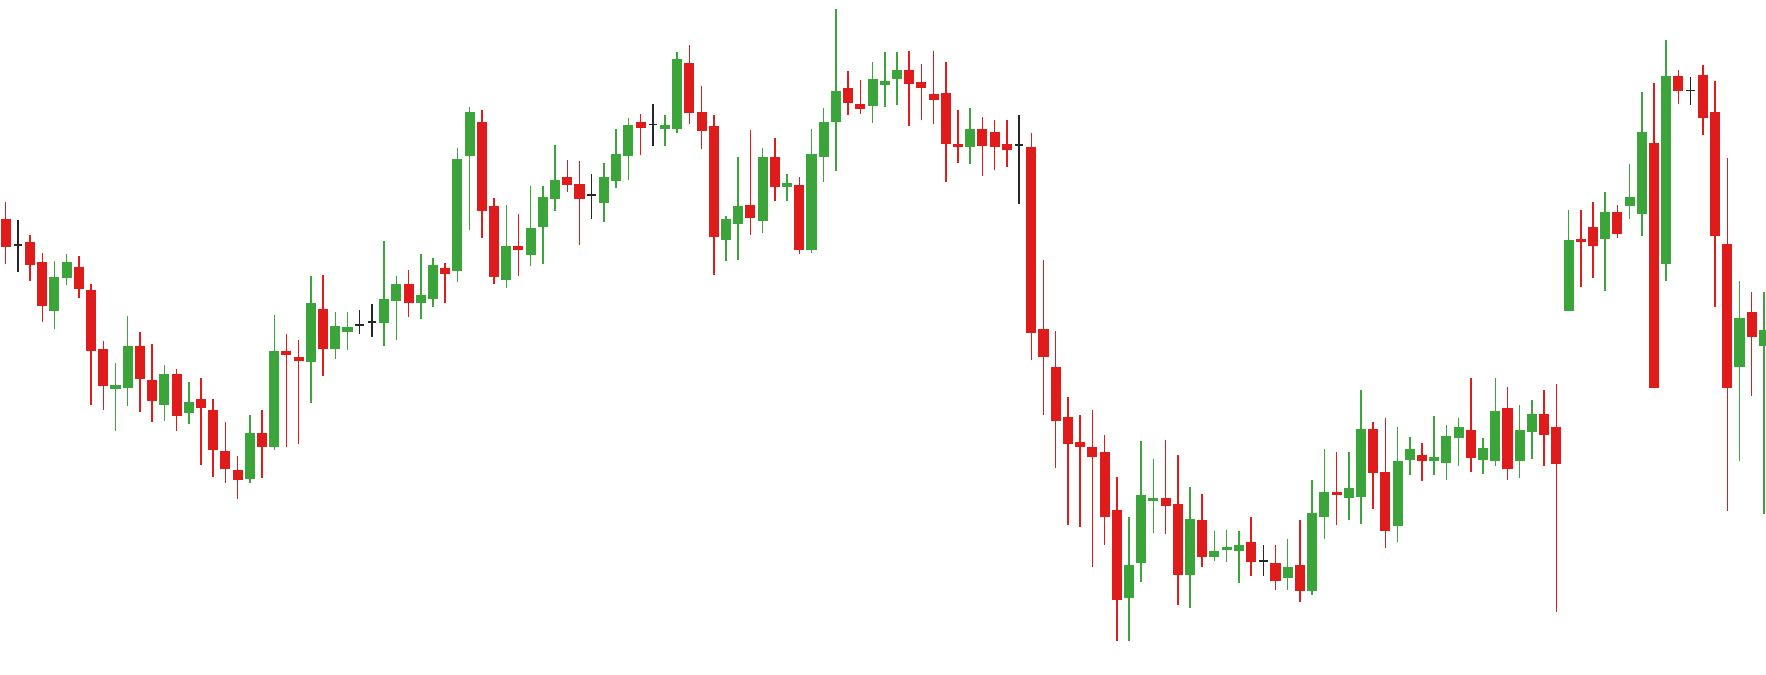sell: (668, 7, 855, 172)
